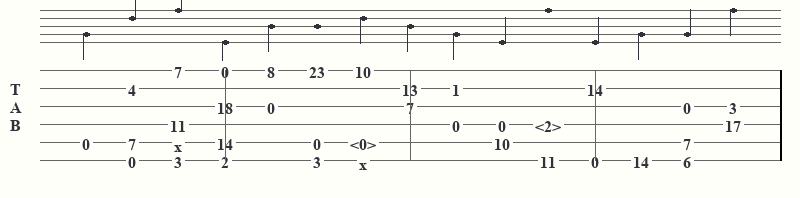0: (82, 135, 94, 150), (128, 153, 140, 168), (221, 63, 233, 78), (267, 99, 279, 114), (313, 135, 325, 150), (452, 117, 464, 132), (498, 117, 510, 132), (591, 153, 603, 168), (683, 99, 695, 114)
1: (452, 81, 464, 96)
10: (355, 63, 375, 78), (494, 135, 514, 150)
11: (170, 117, 190, 132), (540, 153, 560, 168)
13: (402, 81, 422, 96)
14: (217, 135, 237, 150), (587, 81, 607, 96), (633, 153, 653, 168)
17: (725, 117, 745, 132)
18: (217, 99, 237, 114)
2: (221, 153, 233, 168)
23: (309, 63, 329, 78)
3: (174, 153, 186, 168), (313, 153, 325, 168), (729, 99, 741, 114)
4: (128, 81, 140, 96)
6: (683, 153, 695, 168)
7: (128, 135, 140, 150), (174, 63, 186, 78), (406, 99, 418, 114), (683, 135, 695, 150)
8: (267, 63, 279, 78)
harmonic: (350, 135, 380, 150), (535, 117, 565, 132)
x: (174, 137, 186, 148), (359, 155, 371, 166)
